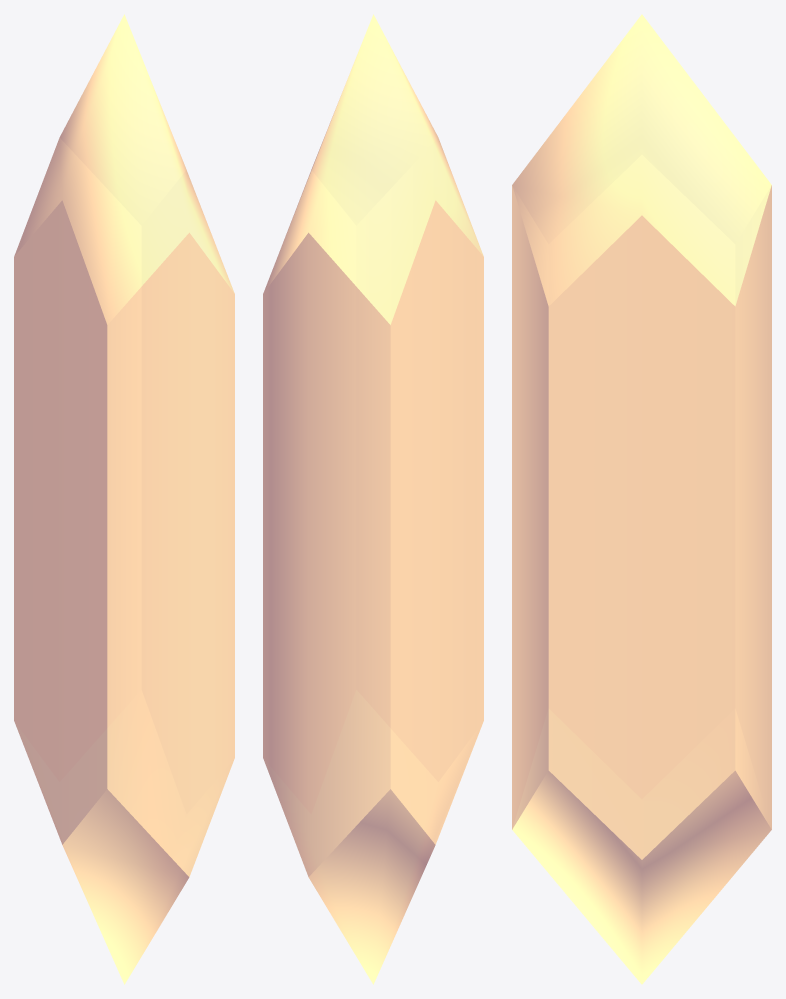
File: mesh_crystal.fbx
3 views of the same model, side by side, from view 1: azimuth 30°, elevation 25°; view 2: azimuth 150°, elevation 25°; view 3: azimuth 270°, elevation 25° (orthographic).
Visible parts, largest first — view 1: Crystal; view 2: Crystal; view 3: Crystal.
Part boxes in pixels (x1,y1,x2,y2): Crystal: (14, 14, 234, 984); Crystal: (263, 14, 483, 984); Crystal: (512, 14, 771, 984).
Bounding box in the file's own units: 78.87 × 574 × 139.
